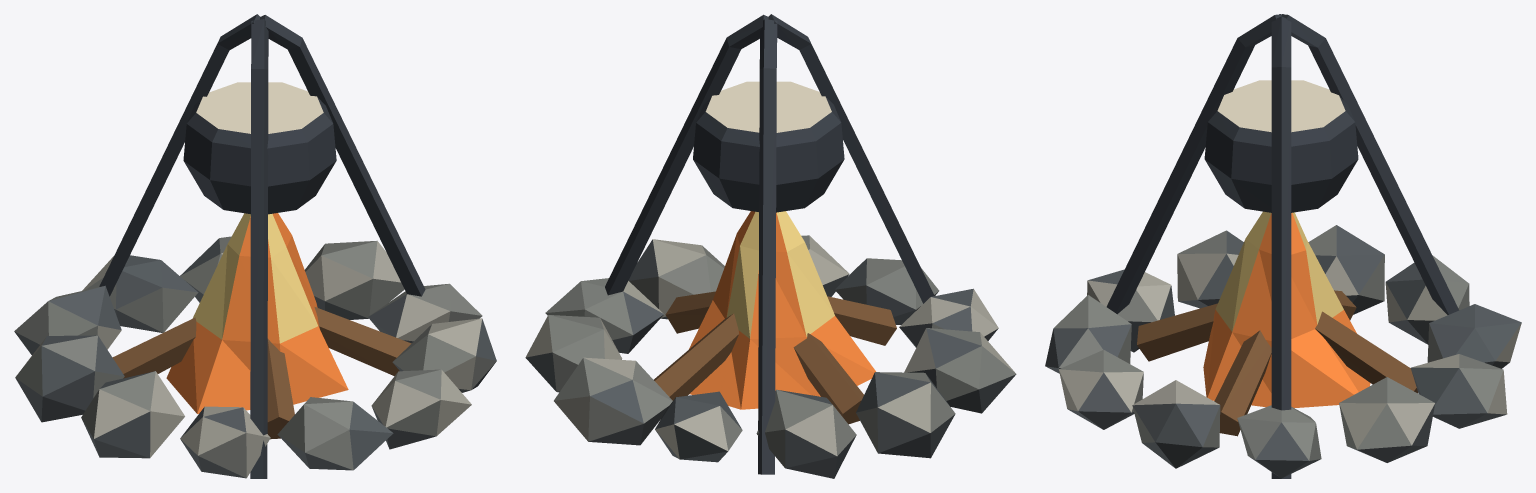
Rendered from Hearth.obj.
The picture shows the model from 3 angles, left to right: view 1: azimuth 30°, elevation 25°; view 2: azimuth 150°, elevation 25°; view 3: azimuth 270°, elevation 25°; orthographic projection.
Size of the model in its own units: 3 by 2.59 by 2.93.
